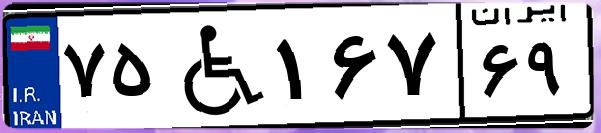1: (270, 28, 330, 110)
5: (110, 28, 158, 98)
6: (330, 28, 385, 110), (475, 38, 525, 113)
7: (385, 28, 445, 110), (57, 26, 110, 100)
9: (525, 38, 570, 115)
ژ (معلولین و جانبازان): (158, 12, 270, 120)
